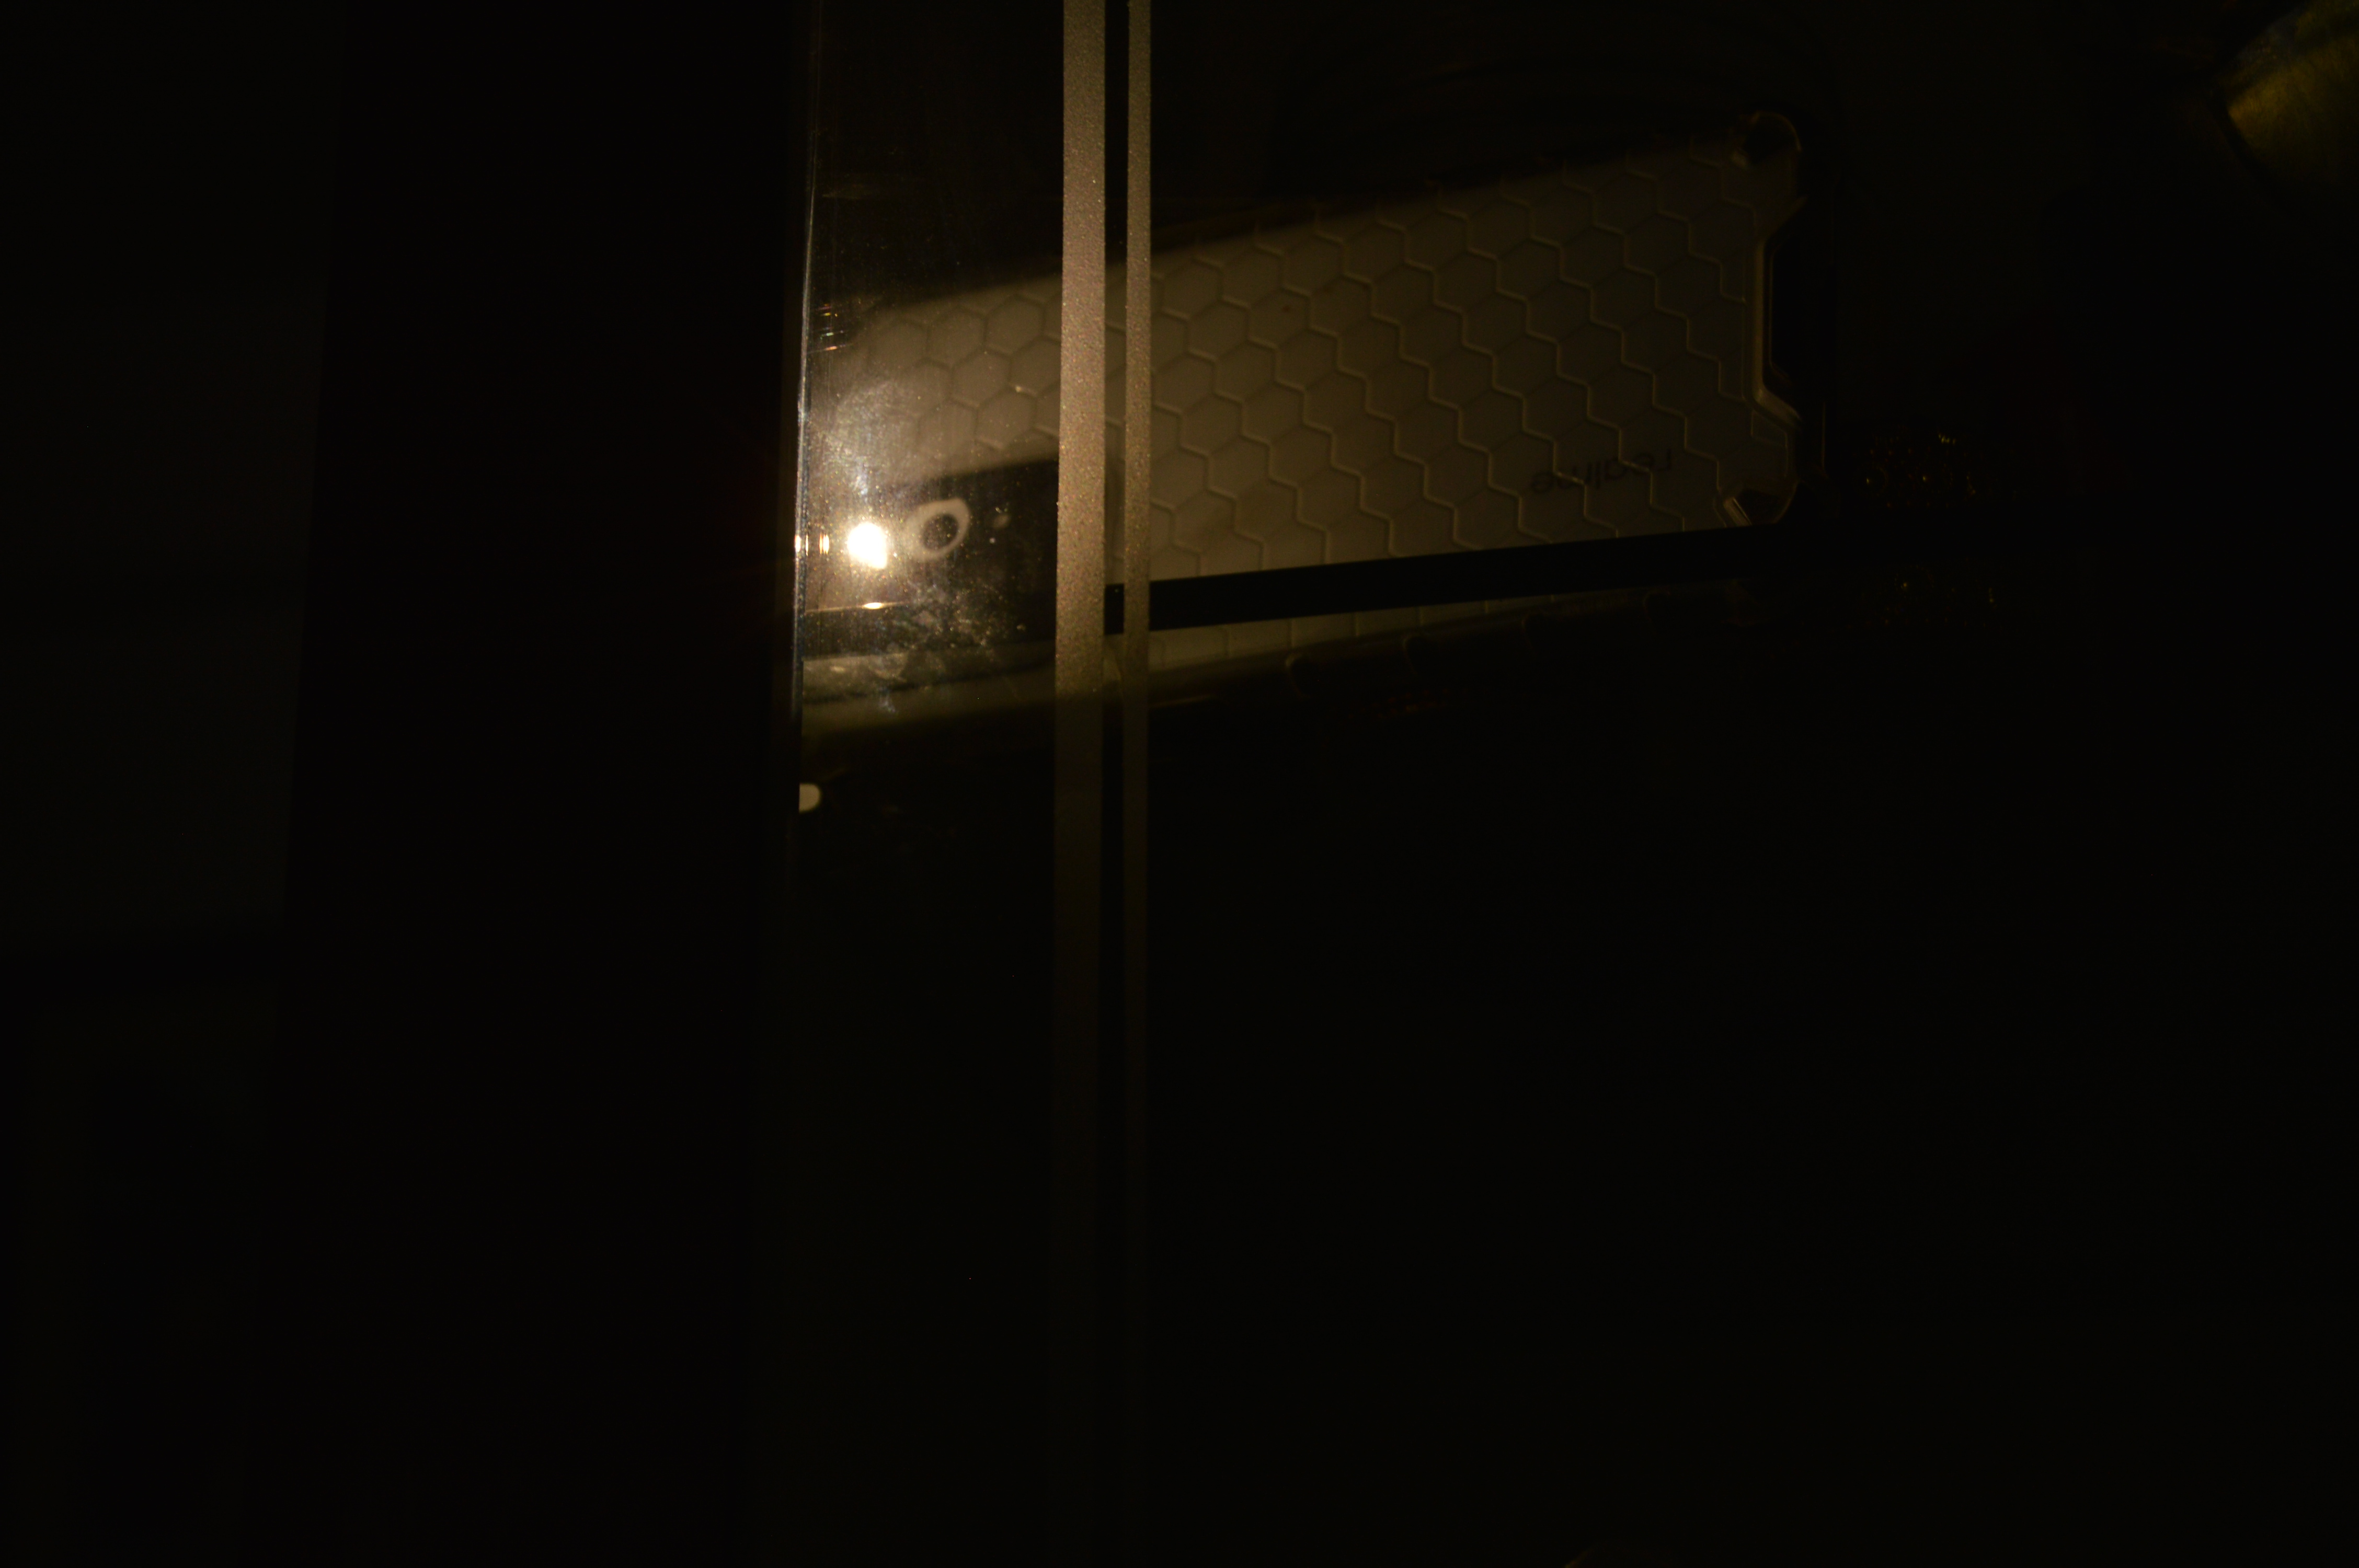Glare: (842, 520, 891, 569)
